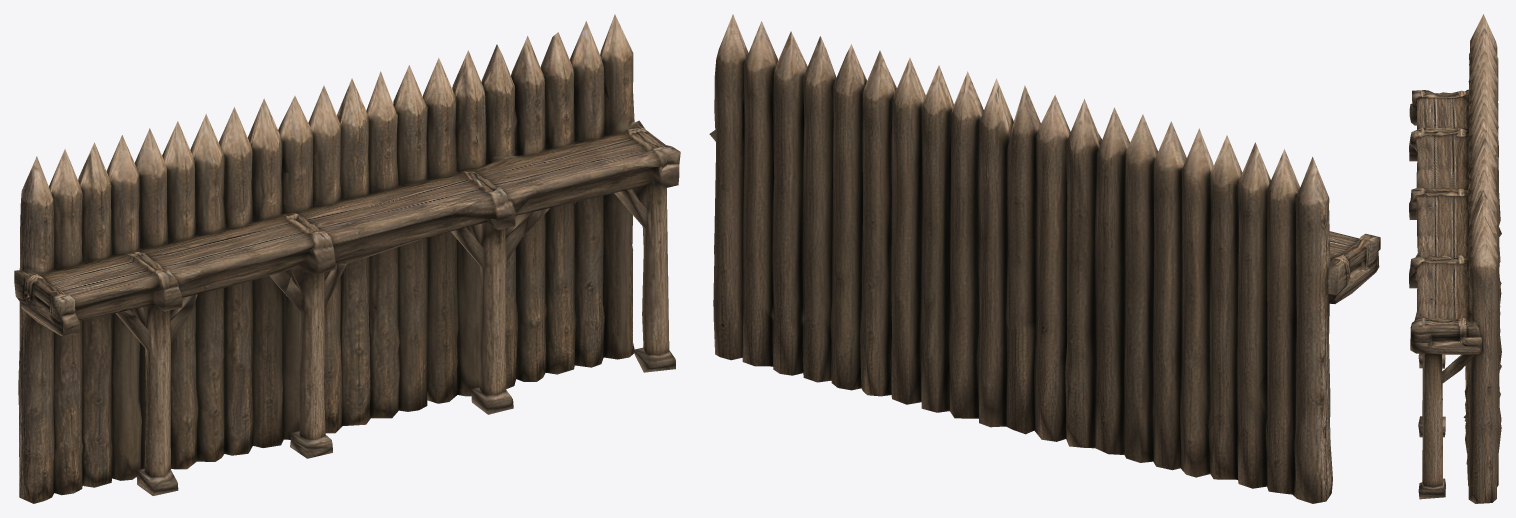
File: tripo_convert_cc7c81ae-ad66-4115-b42b-bfab6e15d81a.fbx
3 renders of one model, left to right at view 1: azimuth 30°, elevation 25°; view 2: azimuth 150°, elevation 25°; view 3: azimuth 270°, elevation 25°, orthographic. The views are drawn at different scales.
Visible parts, largest first — view 1: tripo_node_cc7c81ae; view 2: tripo_node_cc7c81ae; view 3: tripo_node_cc7c81ae.
Part boxes in pixels (left/top/right/bottom): tripo_node_cc7c81ae: left=14, top=14, right=680, bottom=503; tripo_node_cc7c81ae: left=709, top=14, right=1380, bottom=503; tripo_node_cc7c81ae: left=1409, top=14, right=1501, bottom=503.
Bounding box in the file's own units: 0.9806 × 0.512 × 0.1611.
Materials: 1 (1 with a texture image).
